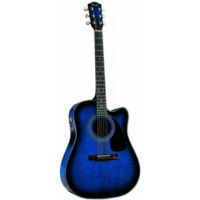guitar: (60, 3, 142, 199)
